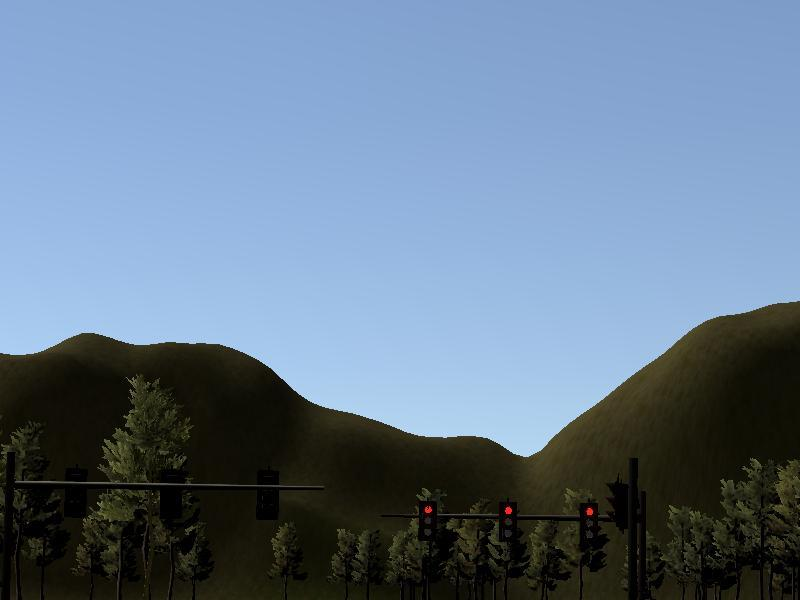Red: (579, 504, 597, 547), (499, 502, 517, 542), (420, 501, 435, 540)
